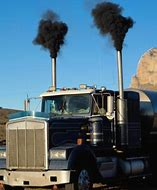smoke: (90, 1, 134, 51), (31, 11, 68, 57)
